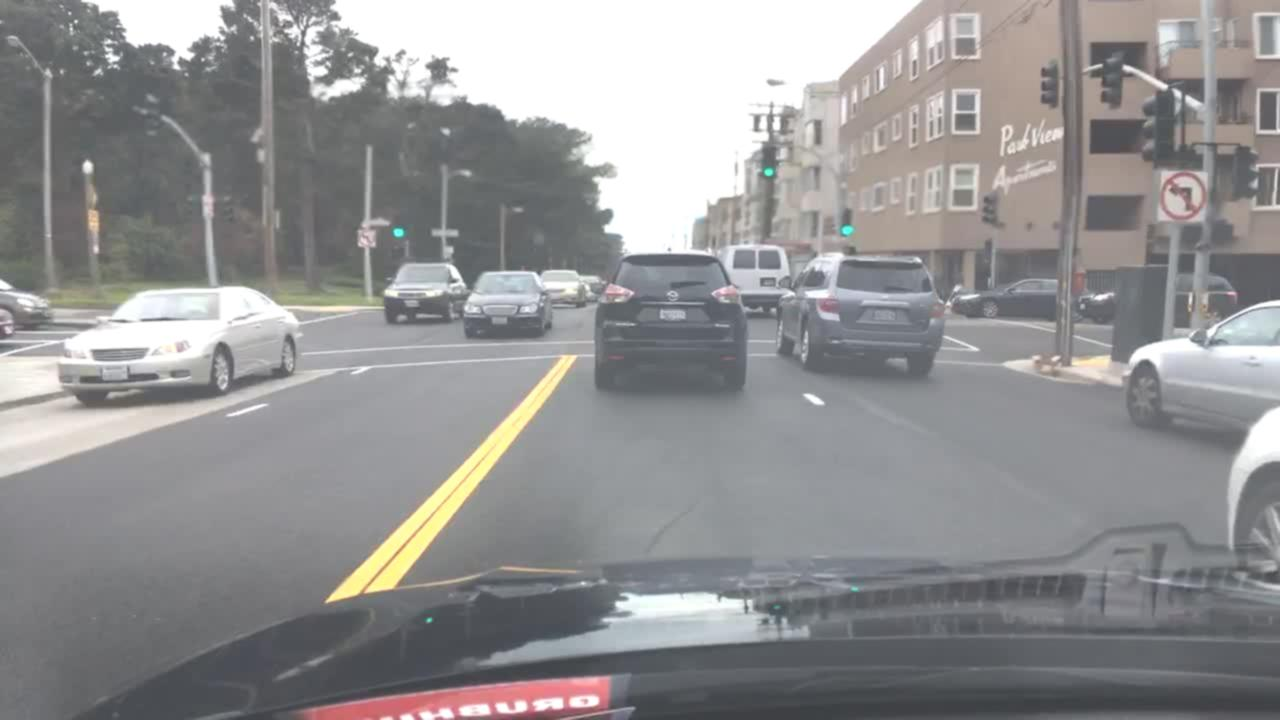Nissan: (665, 289, 680, 304)
